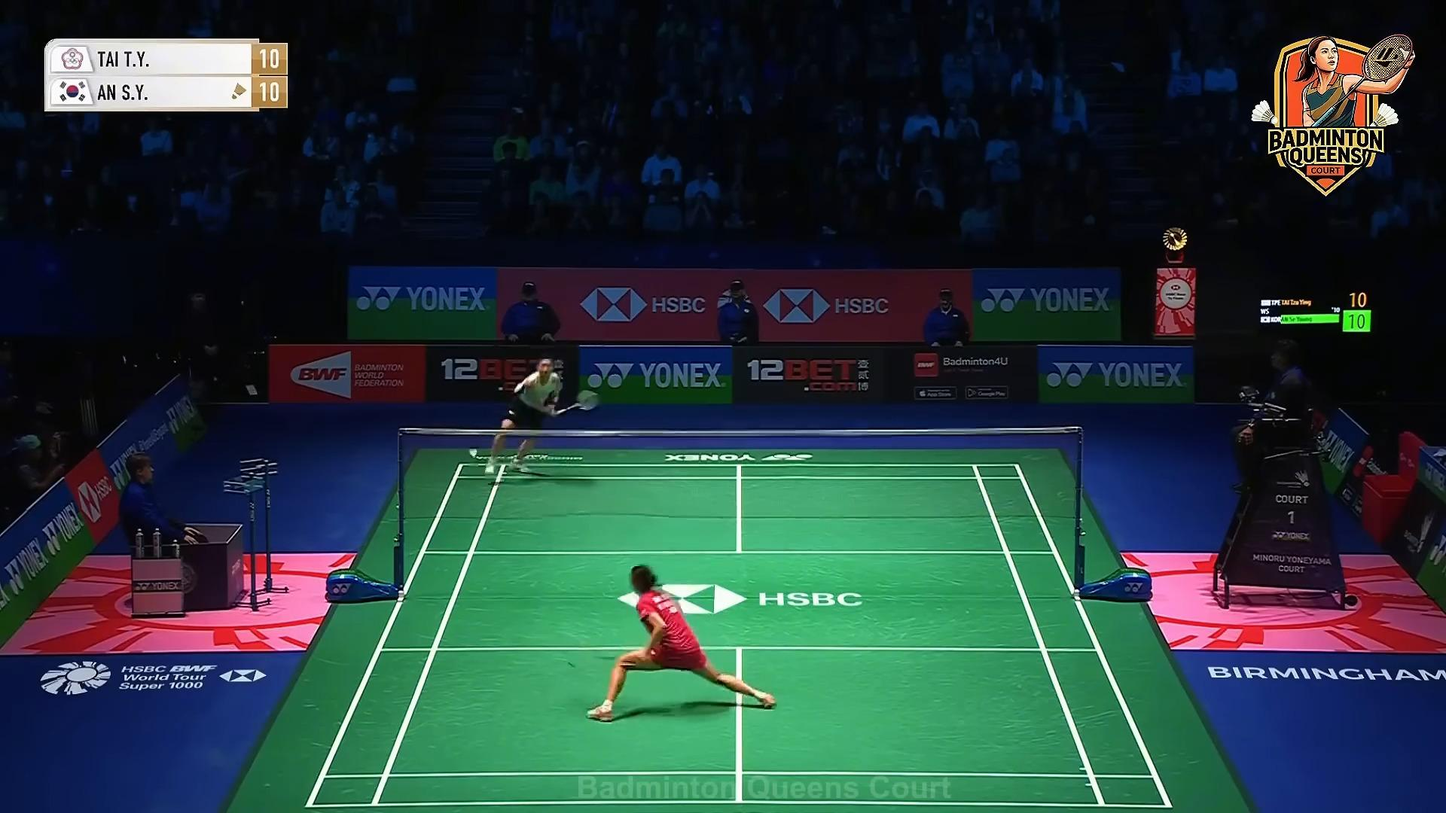player: (587, 565, 775, 722), (485, 353, 566, 477)
